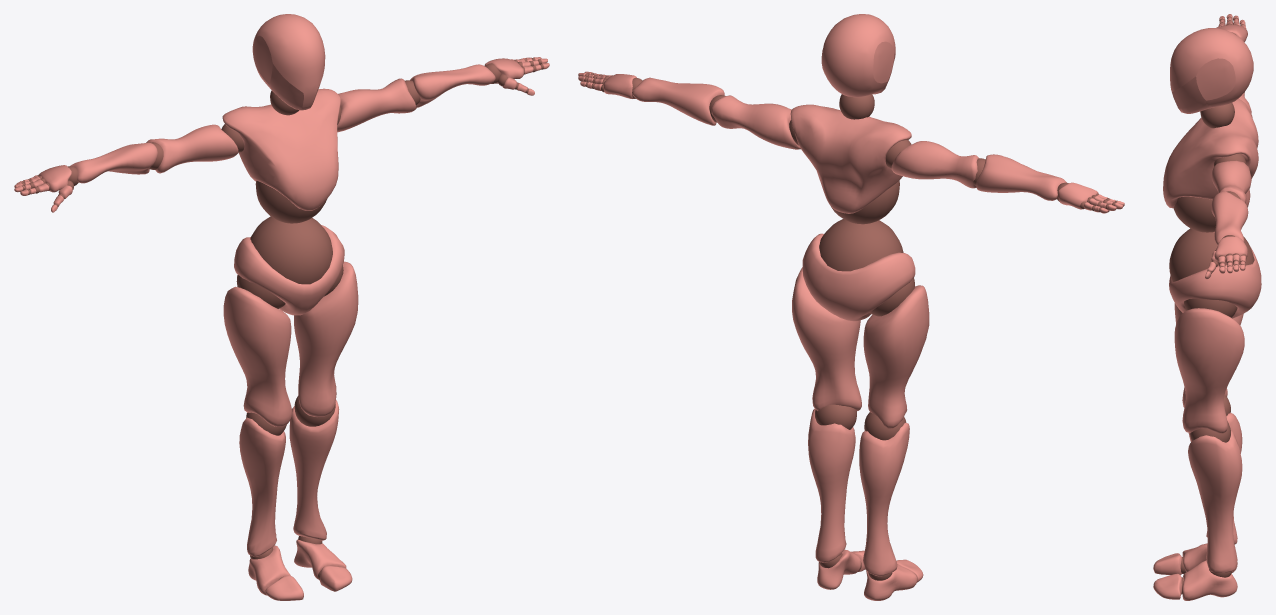
The model's file is xbot.gltf.
The picture shows the model from 3 angles, left to right: view 1: azimuth 30°, elevation 25°; view 2: azimuth 150°, elevation 25°; view 3: azimuth 270°, elevation 25°; orthographic projection. The views are drawn at different scales.
Parts seen in each view (by area): view 1: Beta_Surface, Beta_Joints; view 2: Beta_Surface, Beta_Joints; view 3: Beta_Surface, Beta_Joints.
Boxes of the visible parts, left/top/right/bottom form: Beta_Surface: left=14, top=14, right=549, bottom=600; Beta_Joints: left=21, top=57, right=543, bottom=579; Beta_Surface: left=578, top=14, right=1124, bottom=600; Beta_Joints: left=584, top=72, right=1117, bottom=580; Beta_Surface: left=1153, top=14, right=1261, bottom=600; Beta_Joints: left=1169, top=16, right=1254, bottom=594.
Size of the model in its own units: 181 by 181 by 32.07.
